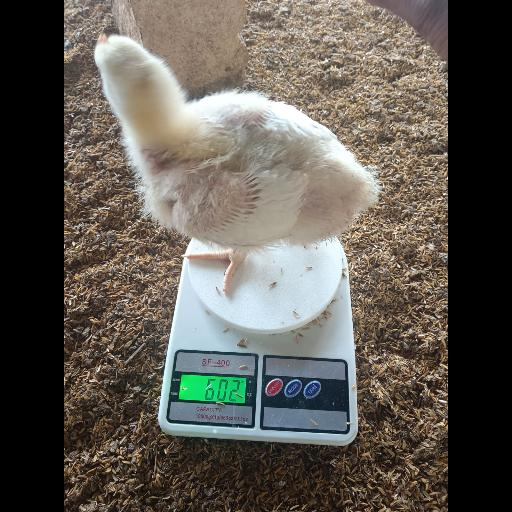chick: (95, 35, 374, 294)
